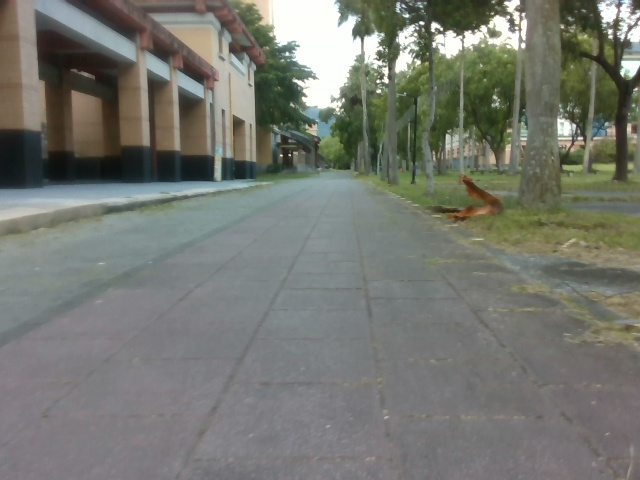grass: (229, 0, 639, 206), (258, 164, 639, 264)
road: (0, 175, 639, 479)
sidewalk: (0, 180, 256, 237)
